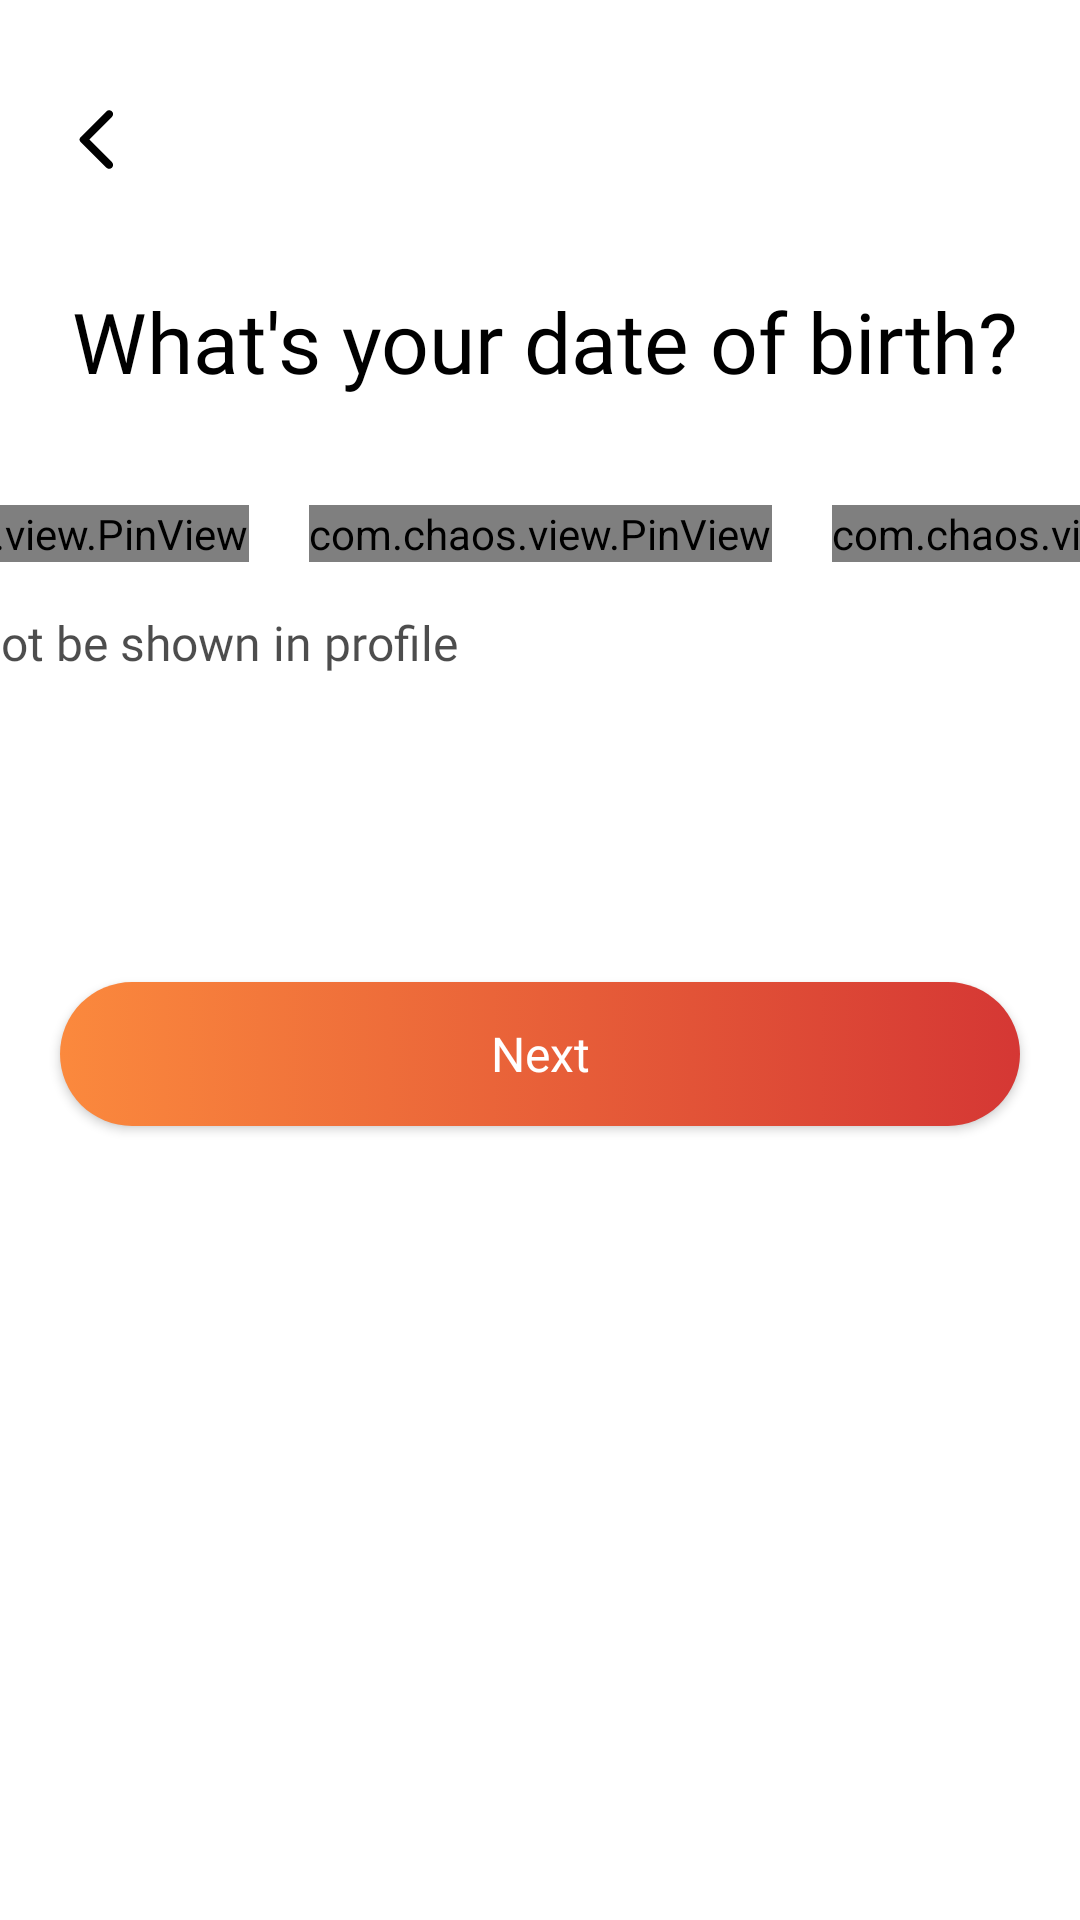

Icons on this 1080x1920 Android screen, each with the point to tap as point (x, y):
arrow back: point (96, 139)
